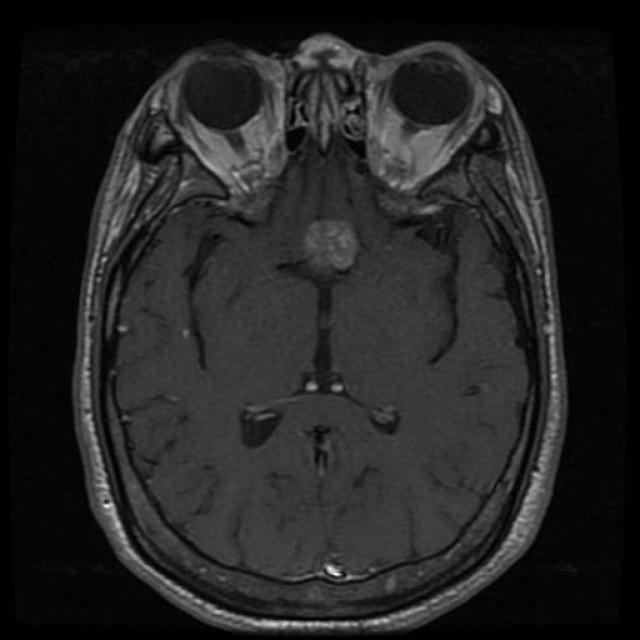pituitary: (294, 224, 372, 279)
